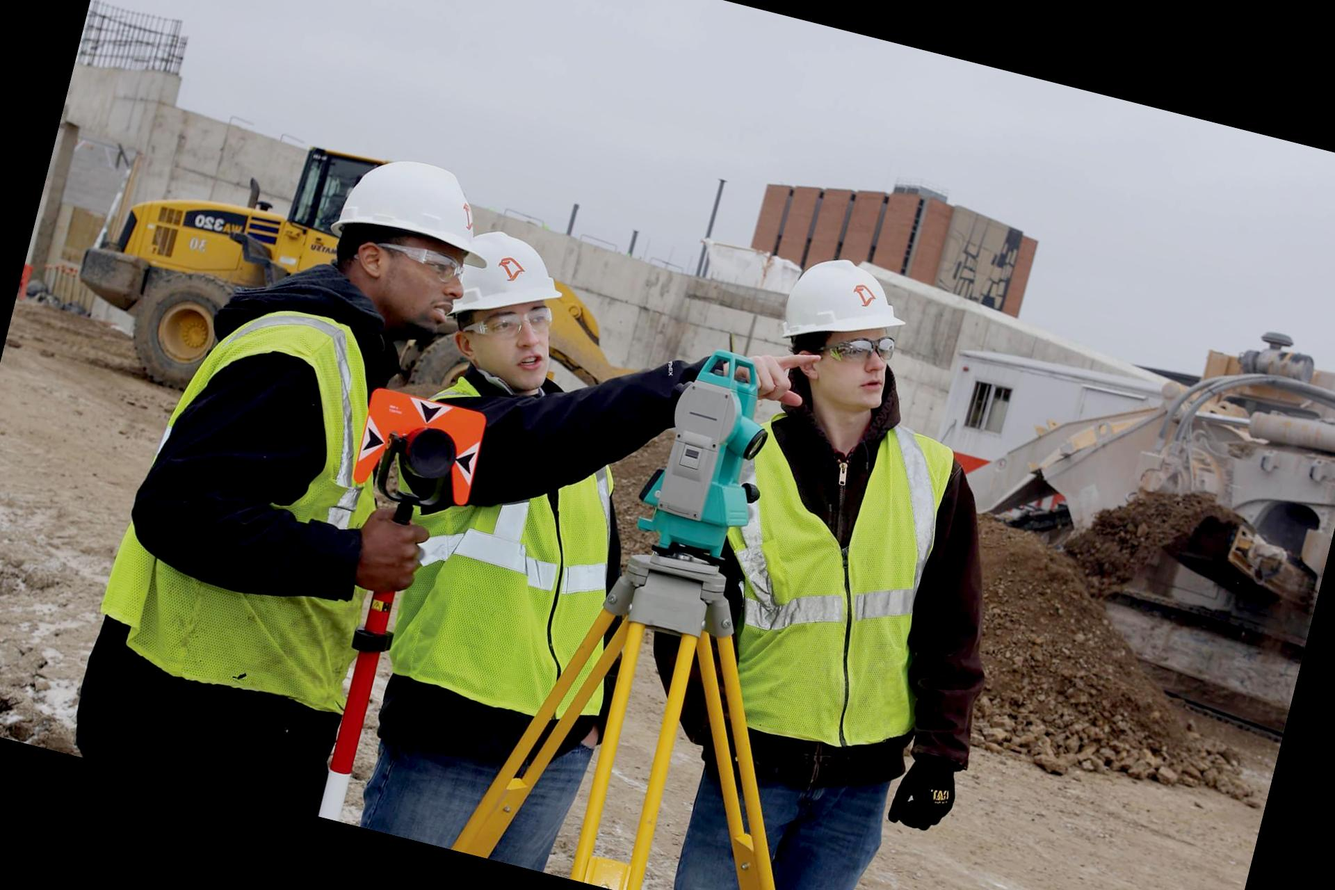helmet: (755, 228, 940, 372), (324, 145, 491, 271), (447, 208, 582, 332)
person: (55, 103, 513, 825), (612, 229, 1060, 890), (322, 199, 715, 877)
